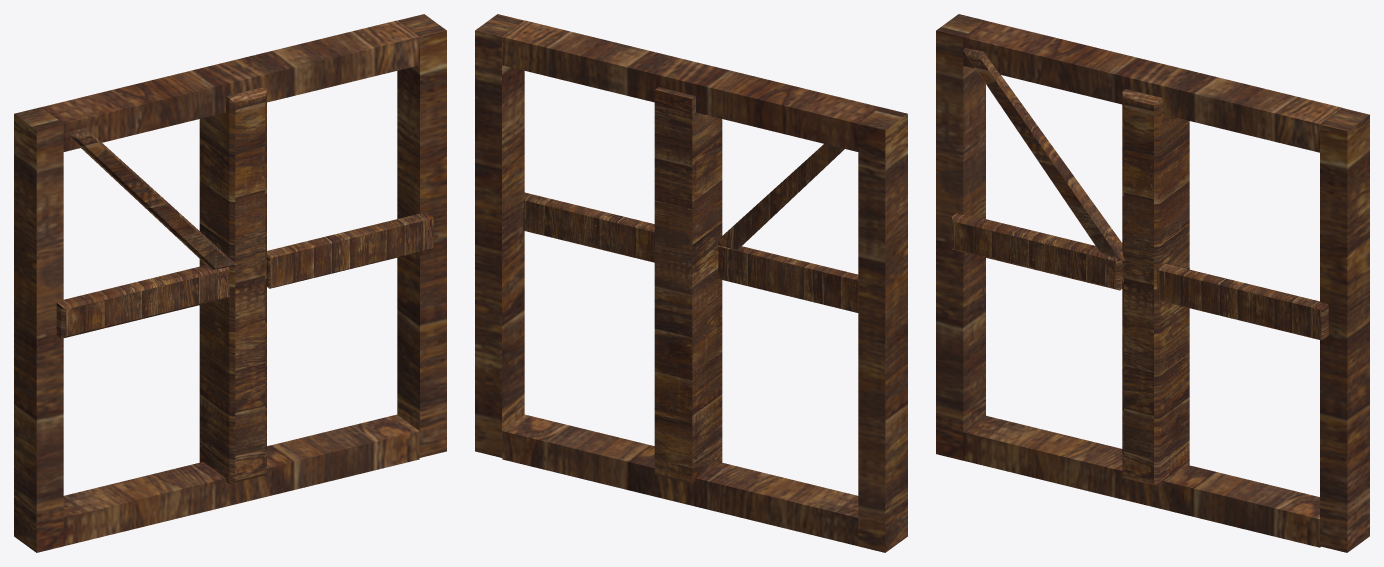
The model's file is BuildingWallTile4.fbx.
3 renders of one model, left to right at view 1: azimuth 30°, elevation 25°; view 2: azimuth 150°, elevation 25°; view 3: azimuth 330°, elevation 25°, orthographic.
Visible parts, largest first — view 1: polySurface167; view 2: polySurface167; view 3: polySurface167.
Part boxes in pixels (bbox=[...]): polySurface167: bbox=[14, 14, 446, 552]; polySurface167: bbox=[475, 14, 907, 552]; polySurface167: bbox=[936, 14, 1369, 552].
Size of the model in its own units: 3.7 by 3.65 by 0.5257.
1 material, 1 textured.
